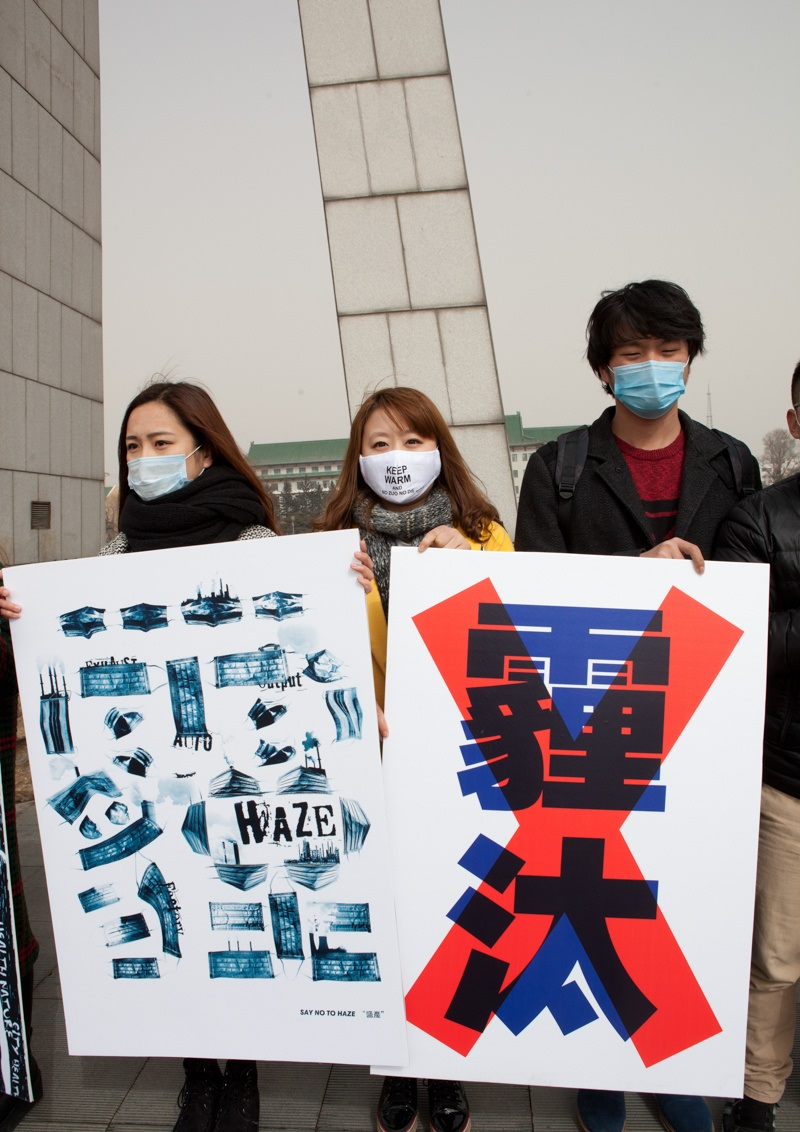face_mask: (361, 403, 444, 507), (122, 398, 191, 501), (615, 319, 683, 417)
